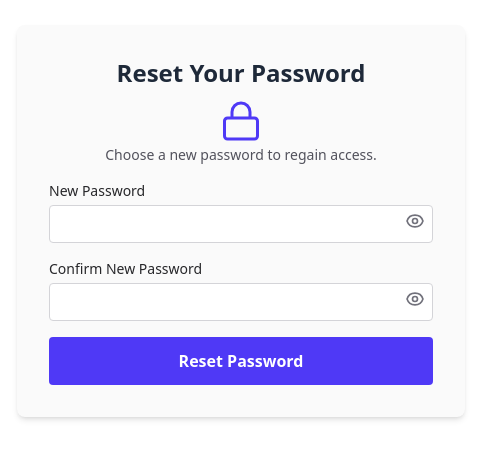
ResetPassword › shows error if fields are empty on submit
The image size is (483, 460).
Click the button "Reset Password". click: coordinates (241, 361)
box: [49, 337, 433, 385]
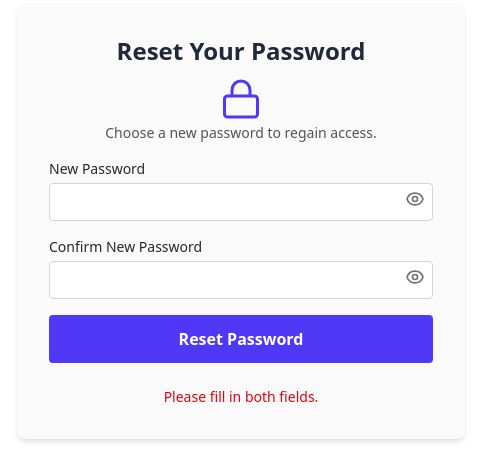
expect the text "Please fill in both fields." is shown: met, box [164, 387, 318, 406]
